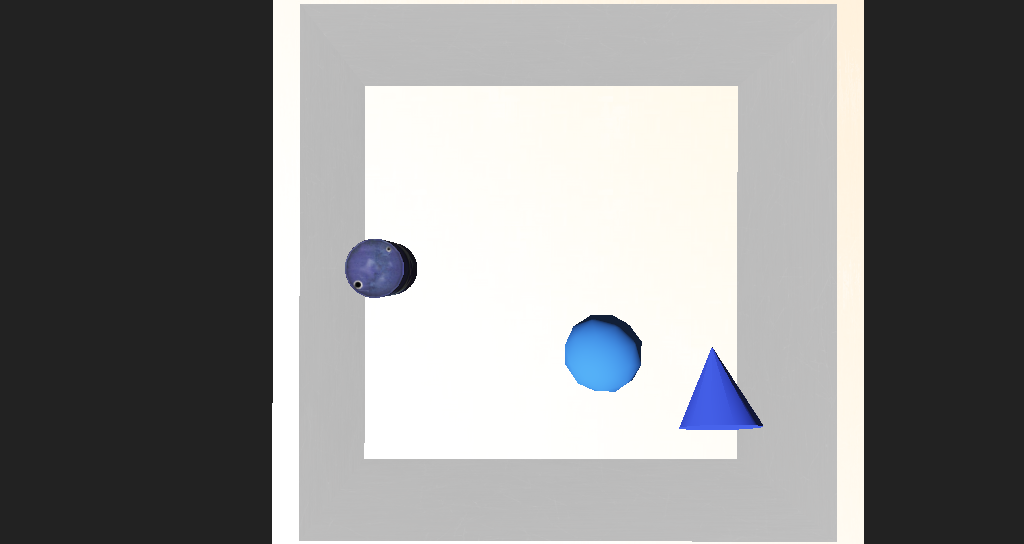cone: (340, 251, 401, 284)
cylinder: (603, 301, 677, 367)
sphere: (512, 293, 579, 336)
